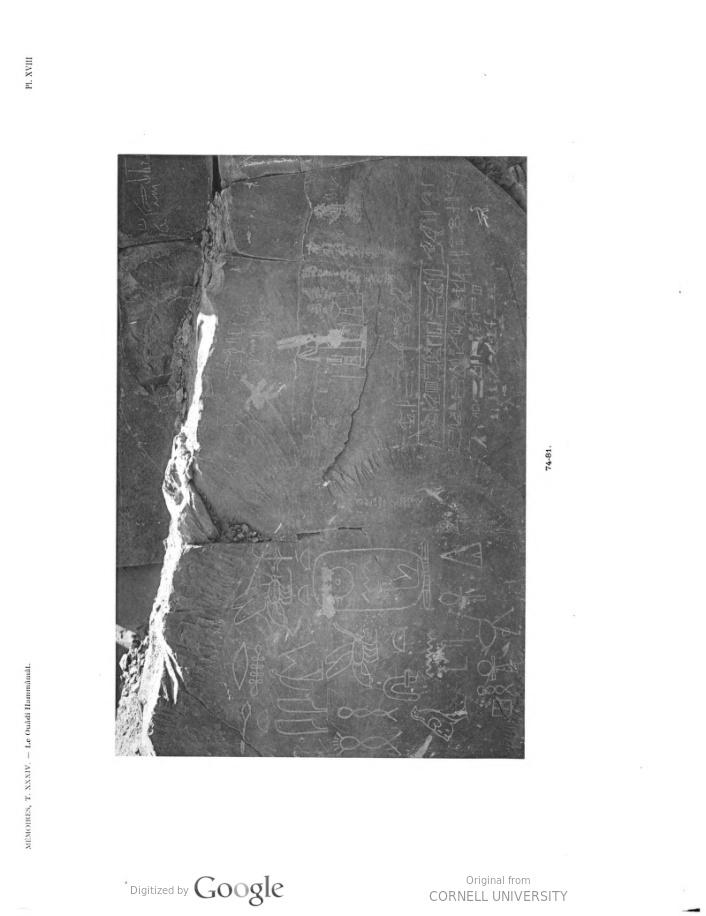circle: (284, 539, 449, 624)
